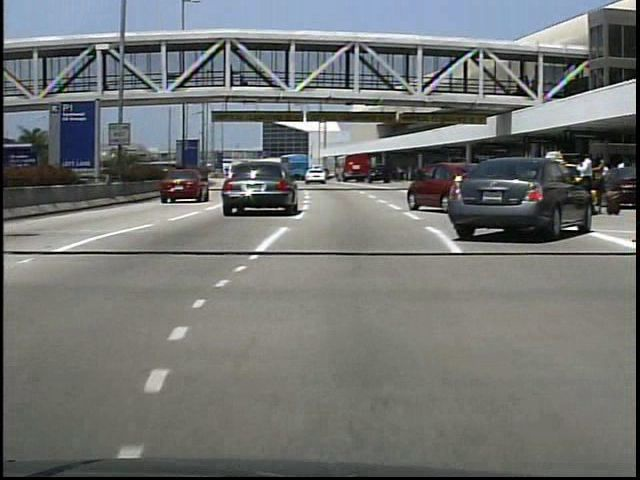person: (222, 63, 235, 90)
